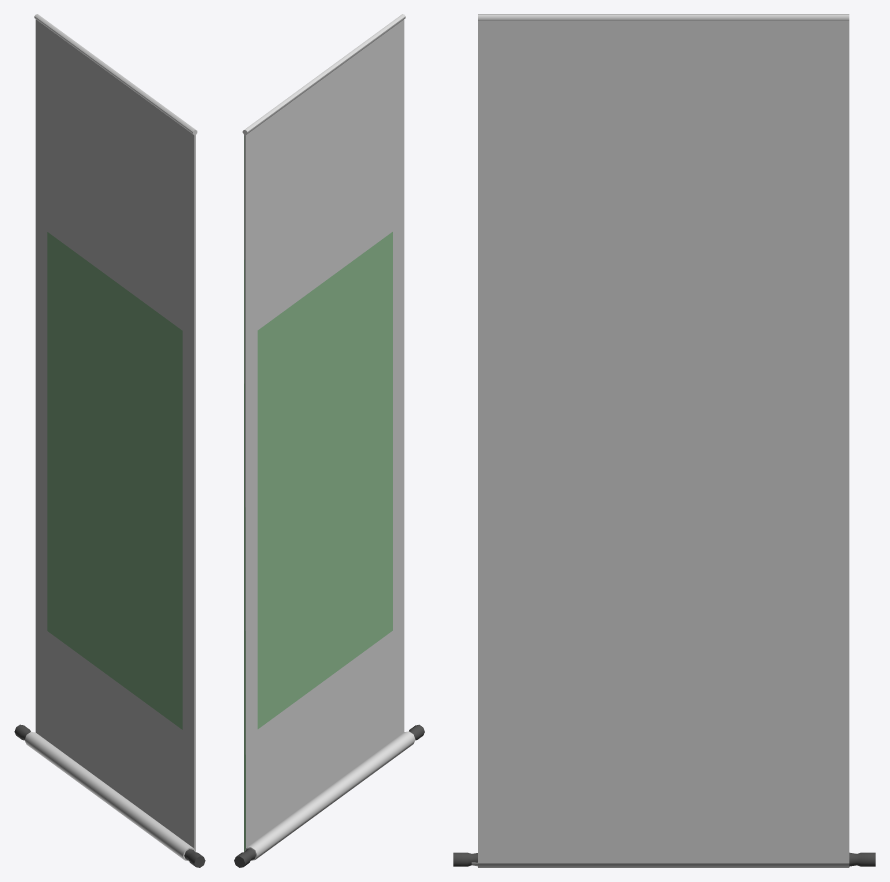
The picture shows the model from 3 angles, left to right: view 1: azimuth 30°, elevation 25°; view 2: azimuth 150°, elevation 25°; view 3: azimuth 270°, elevation 25°; orthographic projection. The views are drawn at different scales.
Parts seen in each view (by area): view 1: GH0301; view 2: GH0301; view 3: GH0301.
Boxes of the visible parts, left/top/right/bottom form: GH0301: left=14, top=14, right=205, bottom=867; GH0301: left=234, top=14, right=424, bottom=867; GH0301: left=453, top=14, right=875, bottom=867.
Bounding box in the file's own units: 3.11 × 67 × 150.
